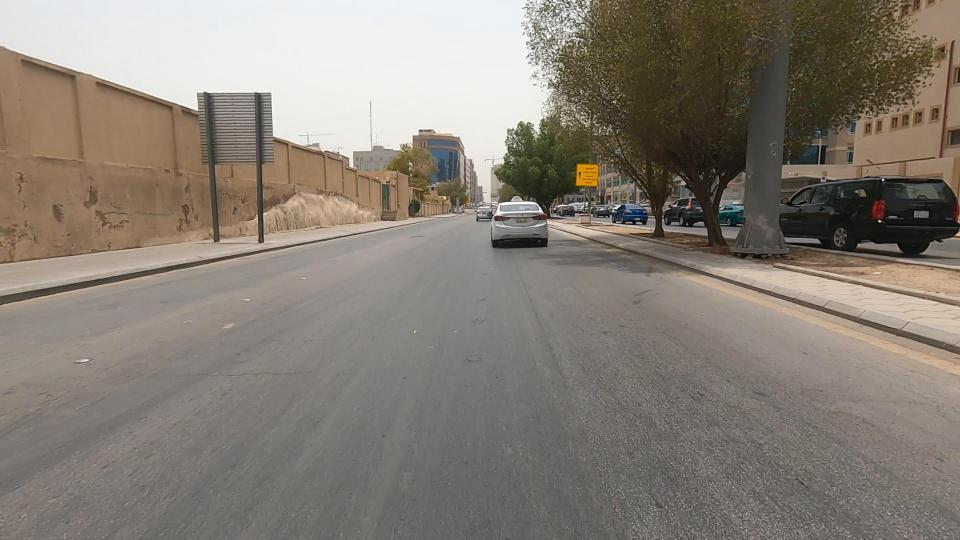UNKEPT_FACADE: (178, 155, 412, 267)
